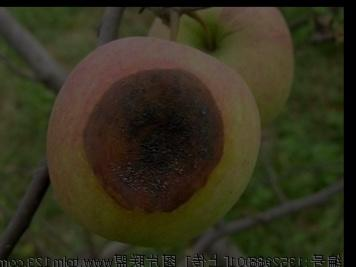rotten apple: (47, 35, 259, 249)
